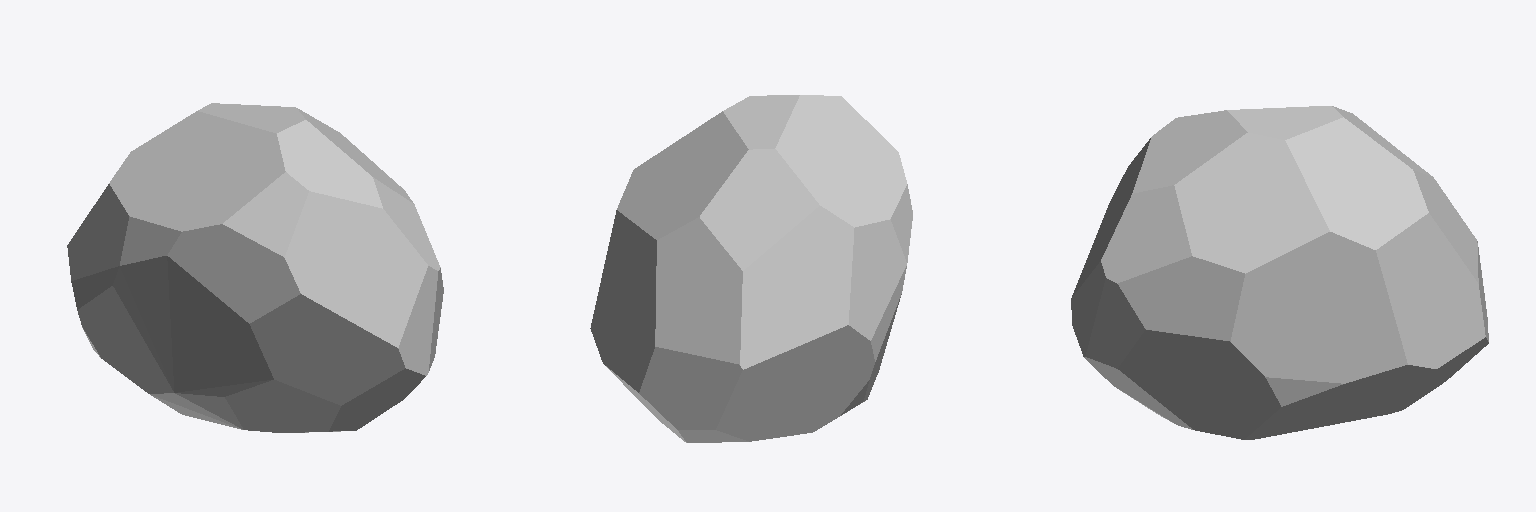
The model's file is smallStone1.obj.
3 renders of one model, left to right at view 1: azimuth 30°, elevation 25°; view 2: azimuth 150°, elevation 25°; view 3: azimuth 270°, elevation 25°, orthographic.
Parts seen in each view (by area): view 1: Icosphere_003; view 2: Icosphere_003; view 3: Icosphere_003.
Boxes of the visible parts, <box> form: Icosphere_003: <box>67,103,443,432</box>; Icosphere_003: <box>590,95,912,442</box>; Icosphere_003: <box>1071,106,1488,439</box>.
Bounding box in the file's own units: 48.48 × 46.12 × 61.08.